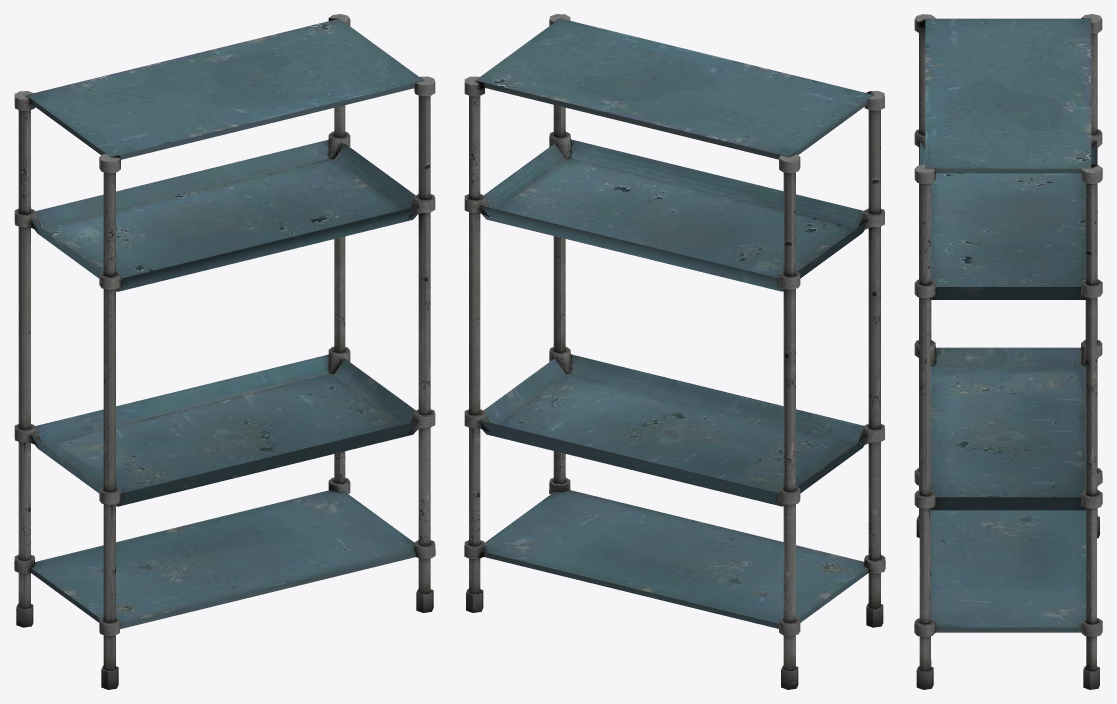
Rendered from kitchen_shelf001a.glb.
3 views of the same model, side by side, from view 1: azimuth 30°, elevation 25°; view 2: azimuth 150°, elevation 25°; view 3: azimuth 270°, elevation 25° (orthographic). The views are drawn at different scales.
Visible parts, largest first — view 1: 0_kitchen_shelf001a; view 2: 0_kitchen_shelf001a; view 3: 0_kitchen_shelf001a.
Boxes of the visible parts, x1,y1,x2,y2 form: 0_kitchen_shelf001a: [14, 14, 435, 689]; 0_kitchen_shelf001a: [464, 14, 885, 689]; 0_kitchen_shelf001a: [914, 14, 1102, 689].
Bounding box in the file's own units: 1.62 × 2.45 × 0.8066.
Materials: 1 (1 with a texture image).
